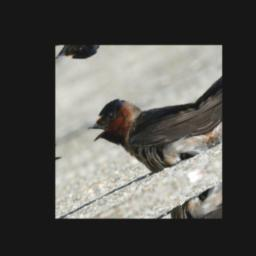Swallow: (80, 67, 215, 197)
